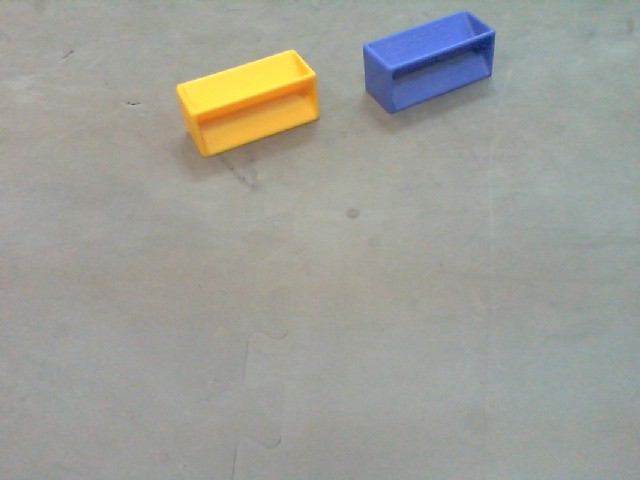BlueSample: (362, 7, 495, 112)
YellowSample: (174, 46, 321, 159)
